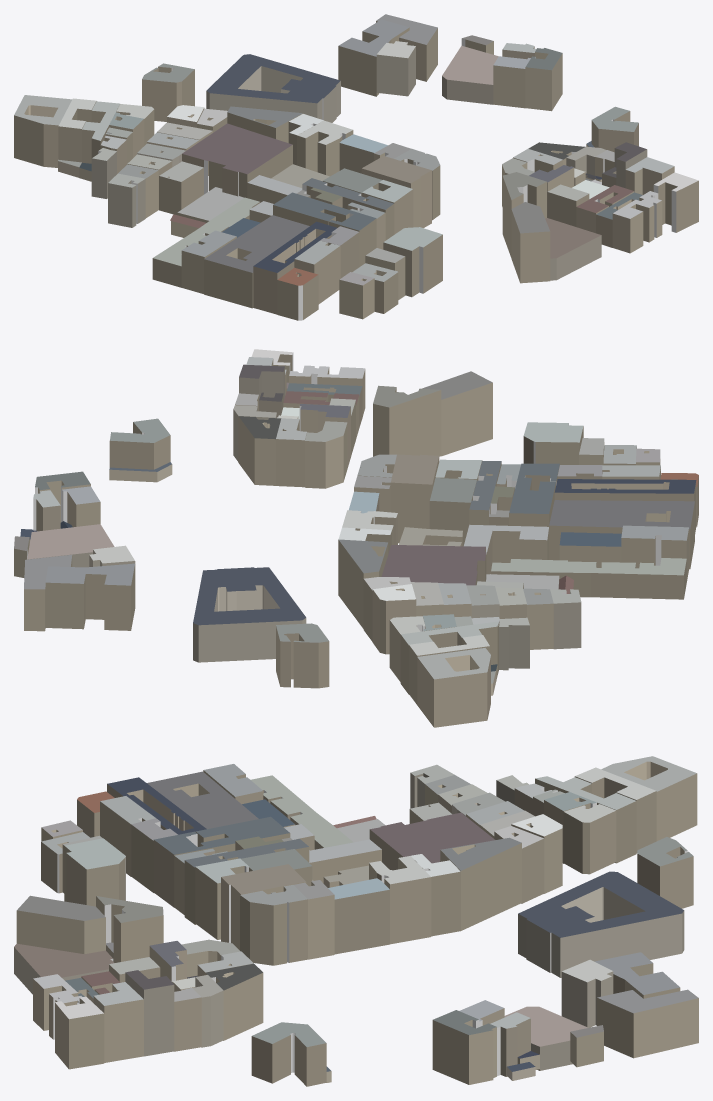
3 renders of one model, top to bottom at view 1: azimuth 30°, elevation 25°; view 2: azimuth 150°, elevation 25°; view 3: azimuth 270°, elevation 25°, orthographic. The views are drawn at different scales.
Parts seen in each view (by area): view 1: tuile; view 2: tuile; view 3: tuile.
Boxes of the visible parts, x1=… form: tuile: x1=14, y1=14, x2=698, y2=320; tuile: x1=14, y1=349, x2=698, y2=727; tuile: x1=14, y1=756, x2=698, y2=1086.
Size of the model in its own units: 276 by 33.4 by 273.
